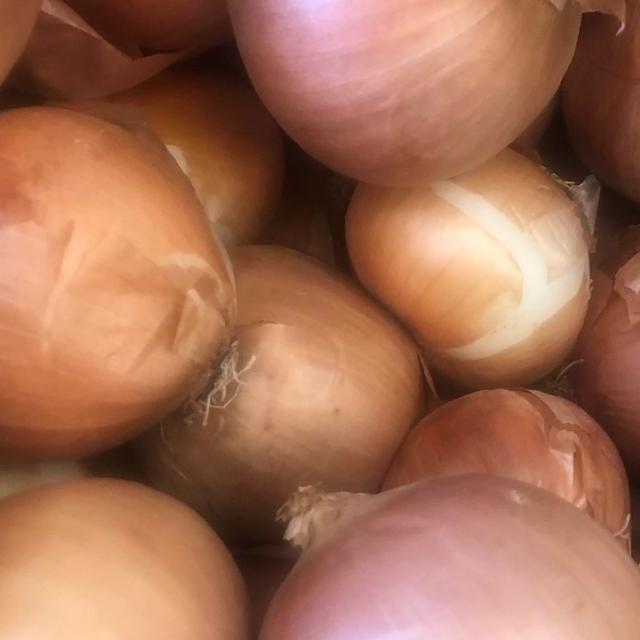tomato: (0, 77, 235, 452), (318, 128, 628, 392), (230, 0, 627, 187), (242, 460, 640, 640), (0, 452, 255, 640)
